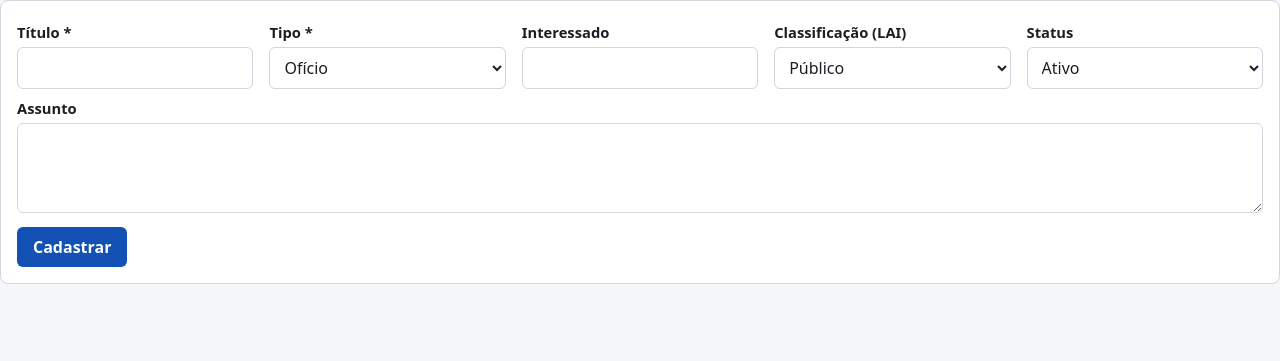
Test: bloqueia título curto e envia dados válidos
Later steps or results of the test are not shown.
In the field labelled "Título *": (135, 68) [17,47,253,89], type "ab"
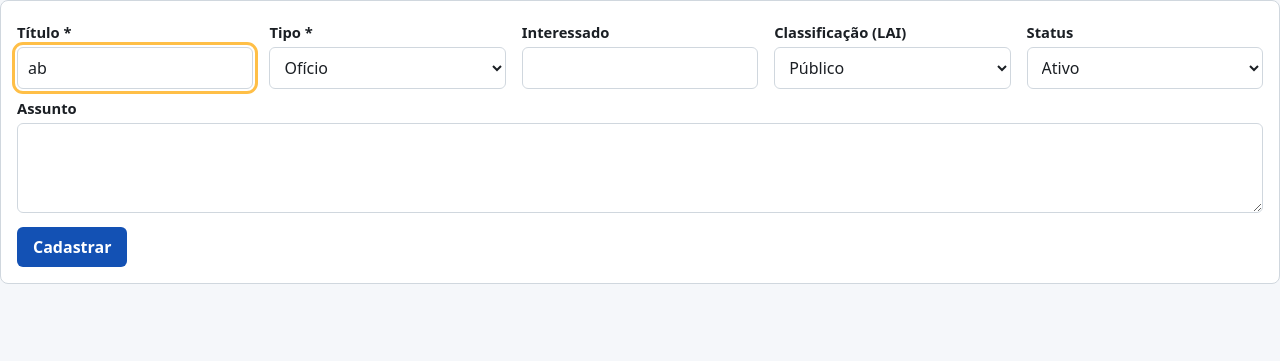
Click the button "Cadastrar": (72, 247) [17,227,127,267]
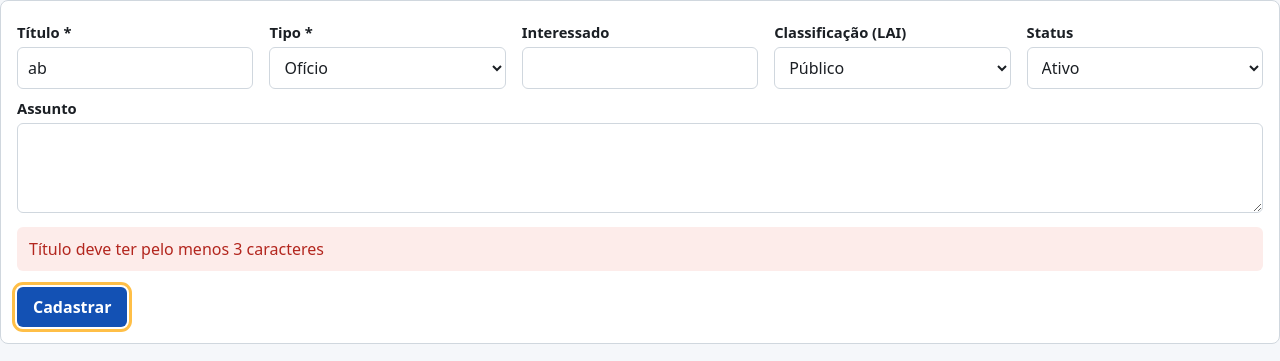
Result: the message shows "pelo menos 3" at [29,238,324,260]
